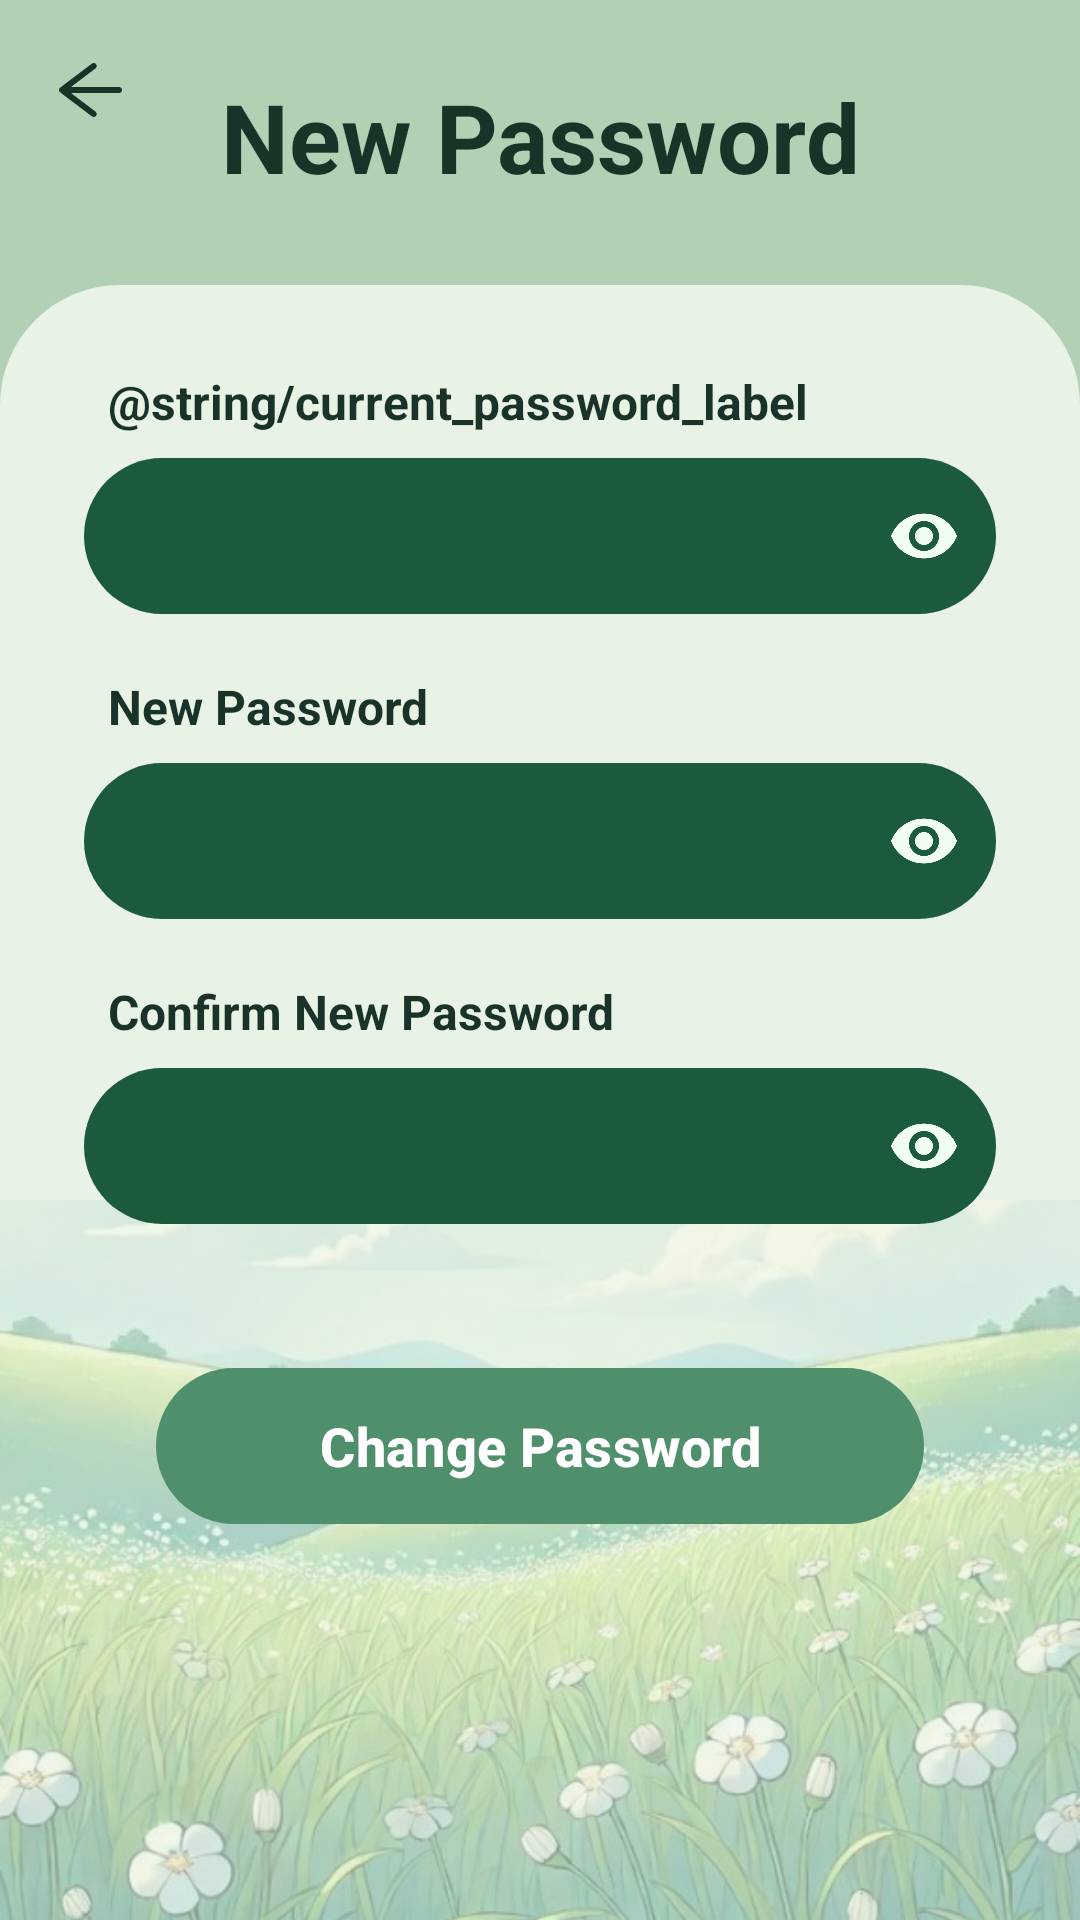

Named icons in this screenshot (1080px×1920px) and their centers, [x,y]:
Back: [90,90]
